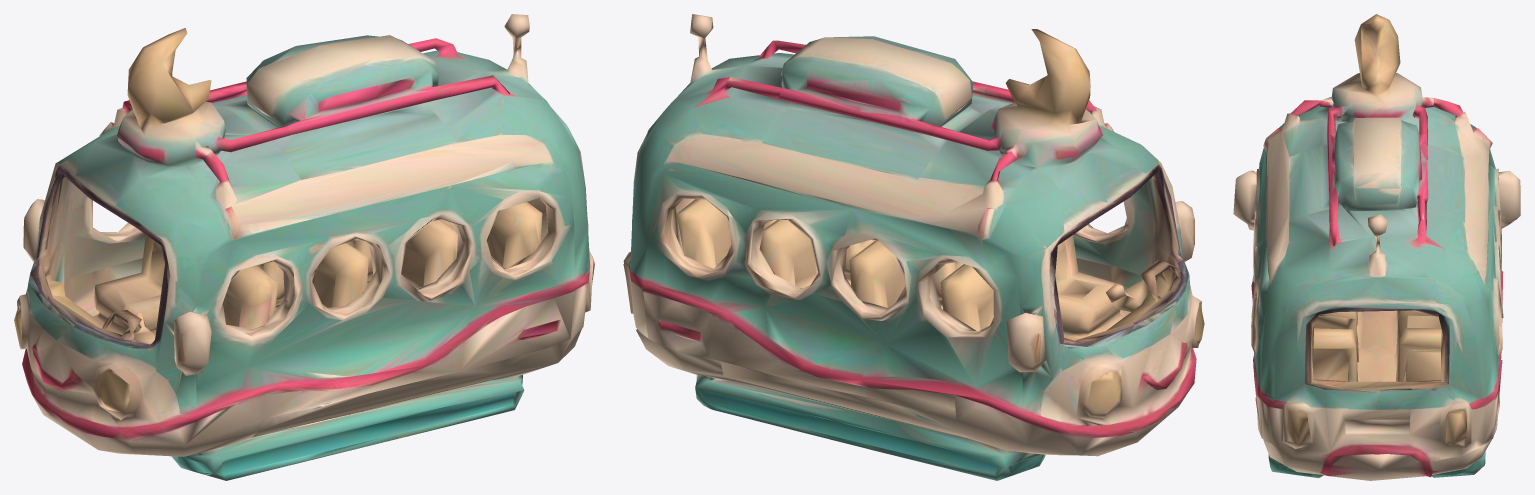
Rendered from bus.glb.
3 renders of one model, left to right at view 1: azimuth 30°, elevation 25°; view 2: azimuth 150°, elevation 25°; view 3: azimuth 270°, elevation 25°, orthographic. The views are drawn at different scales.
Visible parts, largest first — view 1: V03_moon-bus; view 2: V03_moon-bus; view 3: V03_moon-bus.
Boxes of the visible parts, x1=… form: V03_moon-bus: x1=14, y1=14, x2=594, y2=480; V03_moon-bus: x1=623, y1=14, x2=1204, y2=480; V03_moon-bus: x1=1233, y1=14, x2=1520, y2=480.
Size of the model in its own units: 1.31 by 1 by 0.7641.
1 material, 1 textured.
